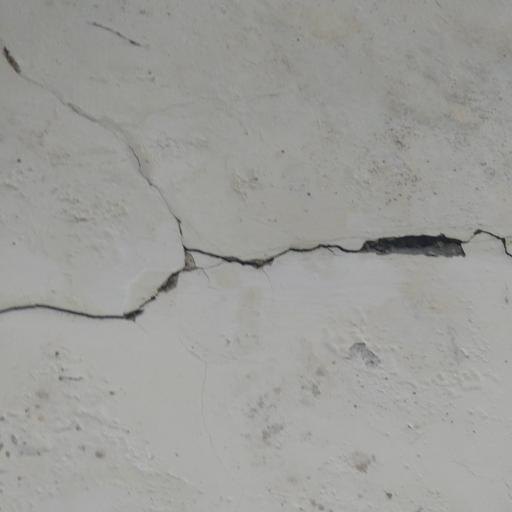major_crack: (0, 164, 512, 353)
